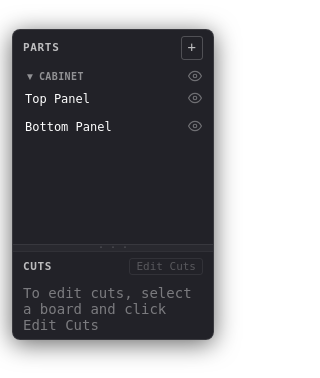
Test: Collapsible assembly groups › hides nested part rows and shows ▶ after clicking the chevron
Click the button named "Collapse".
click(30, 77)  # box [25, 72, 35, 82]
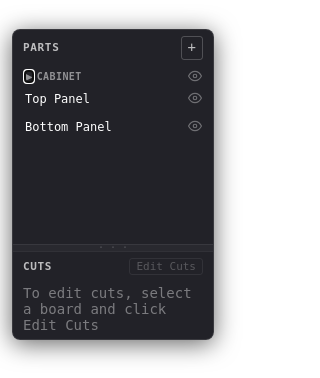
Check: the button named "Expand" reads "▶", box [25, 72, 33, 82]
